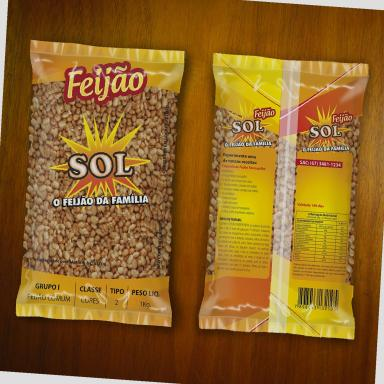beans package: (200, 54, 368, 338), (17, 41, 184, 326)
